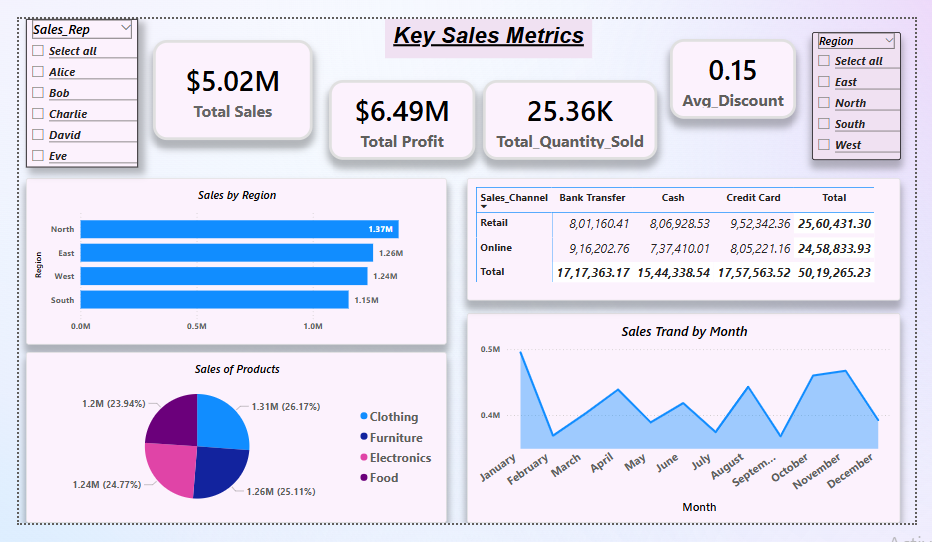

This screenshot's page, from the dashboard's own definition file:
{"tool":"powerbi","page":{"name":"Dashboard","canvas":[1280,720],"ordinal":3},"visuals":[{"type":"textbox","box":[523,0,295.9,56.4],"z":0},{"type":"card","fields":{"Values":["Sheet1.Sales_Amount"]},"box":[191.3,30.3,228.5,143.1],"z":1000},{"type":"card","fields":{"Values":["Sheet1.Quantity_Sold"]},"box":[663.4,86.7,249.1,114.2],"z":2000},{"type":"card","fields":{"Values":["Sheet1.Discount"]},"box":[930.4,28.9,180.3,114.2],"z":3000},{"type":"card","fields":{"Values":["Sheet1.Profit"]},"box":[443.2,86.7,209.2,114.2],"z":4000},{"type":"lineChart","fields":{"Y":["Sheet1.Sales_Amount"],"Category":["Sheet1.Sale_Date.Variation.Date Hierarchy.Month"]},"box":[640,419.8,619.4,300],"z":5000},{"type":"barChart","title":"Sales by Region","fields":{"Category":["Sheet1.Region"],"Y":["Sheet1.Sales_Amount"]},"box":[9.6,227.1,601.5,238.1],"z":6000},{"type":"slicer","fields":{"Values":["Sheet1.Sales_Rep"]},"box":[9.6,0,159.7,212],"z":7000},{"type":"pieChart","title":"Sales of Products","fields":{"Category":["Sheet1.Product_Category"],"Y":["Sheet1.Sales_Amount"]},"box":[9.6,476.2,601.5,243.6],"z":8000},{"type":"pivotTable","fields":{"Values":["Sheet1.Sales_Amount"],"Rows":["Sheet1.Sales_Channel"],"Columns":["Sheet1.Payment_Method"]},"box":[640,227.1,619.4,174.8],"z":9000},{"type":"slicer","fields":{"Values":["Sheet1.Region"]},"box":[1132.7,17.9,126.6,183.1],"z":10000}]}

Visuals, with their boxes on the page's 1280x720 design canvas (x1, y1, x2, y2). These are canvas units, not pixel positions in the 932x542 screenshot, which may show the page scaled, cropped or inside an application window:
textbox: 523, 0, 819, 56
card - Sheet1.Sales_Amount: 191, 30, 420, 173
card - Sheet1.Quantity_Sold: 663, 87, 912, 201
card - Sheet1.Discount: 930, 29, 1111, 143
card - Sheet1.Profit: 443, 87, 652, 201
lineChart - Sheet1.Sales_Amount x Sheet1.Sale_Date.Variation.Date Hierarchy.Month: 640, 420, 1259, 720
"Sales by Region" barChart: 10, 227, 611, 465
slicer - Sheet1.Sales_Rep: 10, 0, 169, 212
"Sales of Products" pieChart: 10, 476, 611, 720
pivotTable - Sheet1.Sales_Amount x Sheet1.Sales_Channel: 640, 227, 1259, 402
slicer - Sheet1.Region: 1133, 18, 1259, 201
